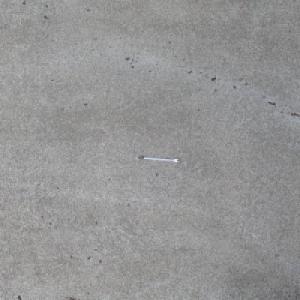Wrench: (136, 155, 180, 162)
